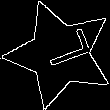L_W: (30, 31, 90, 78)
